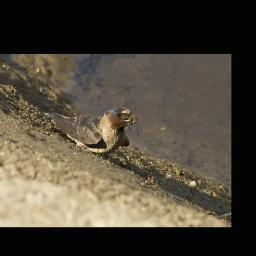Swallow: (47, 106, 136, 156)
